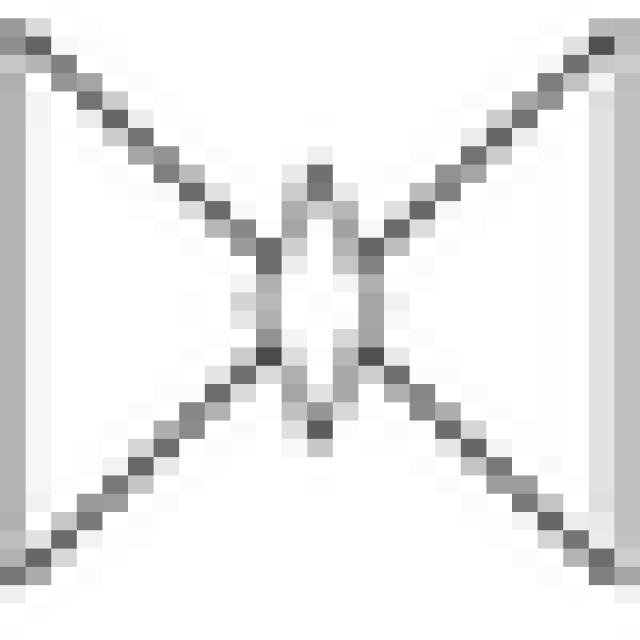Plug Valve: (10, 28, 622, 587)
